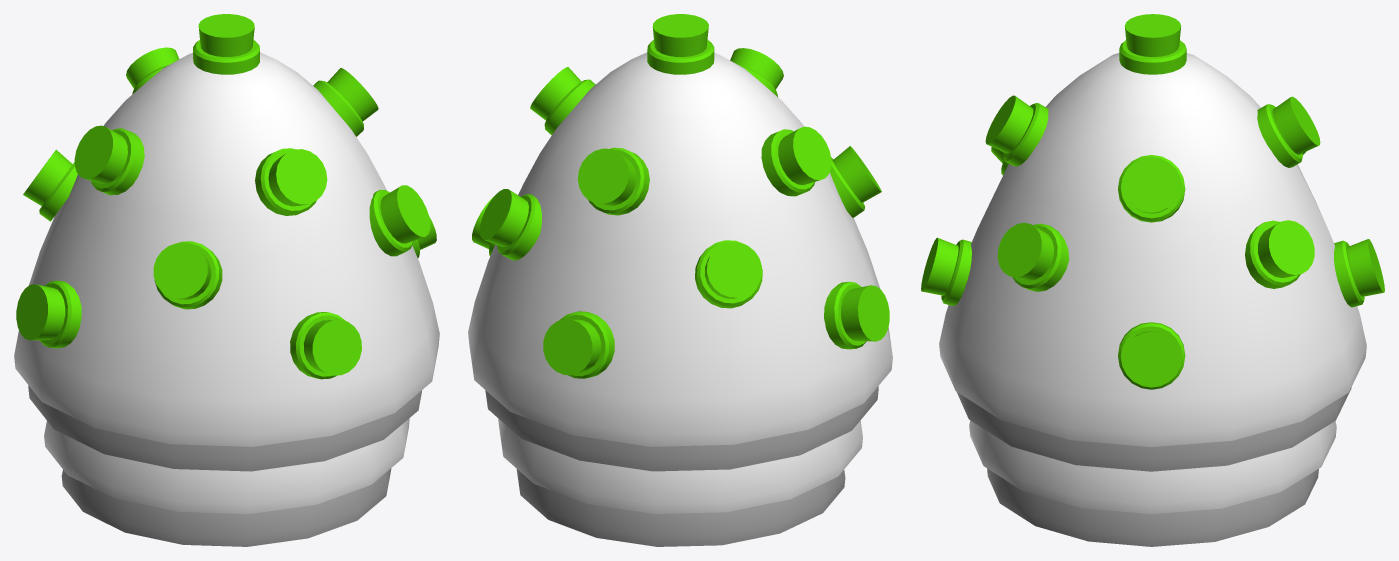
Rendered from head_lv5.fbx.
3 views of the same model, side by side, from view 1: azimuth 30°, elevation 25°; view 2: azimuth 150°, elevation 25°; view 3: azimuth 270°, elevation 25° (orthographic).
Visible parts, largest first — view 1: head_lv5-; view 2: head_lv5-; view 3: head_lv5-.
Boxes of the visible parts, x1,y1,x2,y2 form: head_lv5-: (14, 14, 439, 546); head_lv5-: (468, 14, 892, 546); head_lv5-: (921, 14, 1384, 546).
Size of the model in its own units: 152 by 163 by 152.
